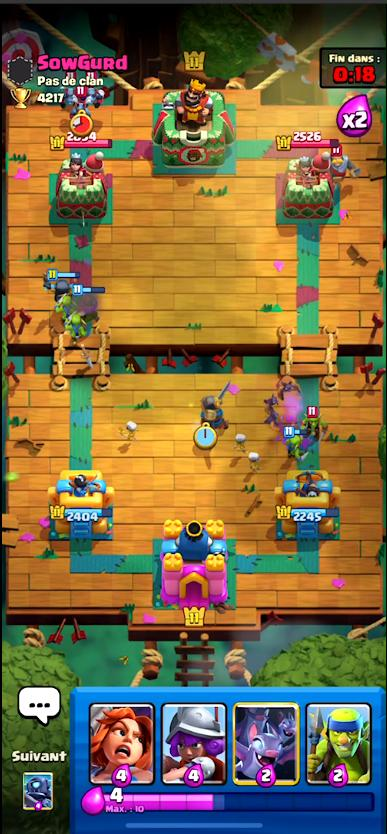bat: (275, 379, 300, 399), (263, 409, 283, 432), (263, 393, 282, 409)
chevalier: (203, 383, 231, 429), (328, 148, 359, 184)
gargouille: (71, 88, 90, 117), (86, 84, 104, 107), (60, 92, 77, 109)
gobelin: (284, 426, 305, 455), (304, 405, 324, 435), (65, 315, 89, 338), (53, 295, 73, 314)
mini_PEKKA: (36, 265, 75, 300)
mousquetaire: (75, 288, 105, 324)
squelette: (120, 420, 137, 440), (246, 450, 260, 469), (234, 434, 248, 452)
